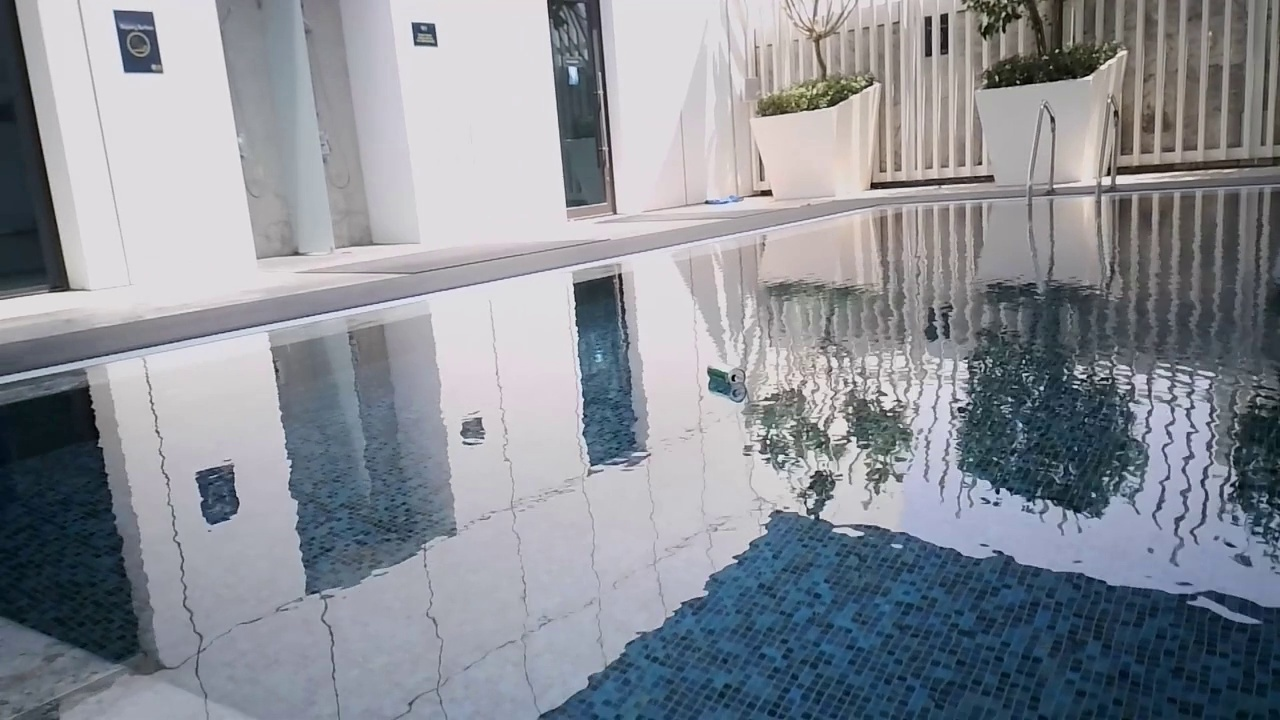debris: (703, 355, 748, 390)
